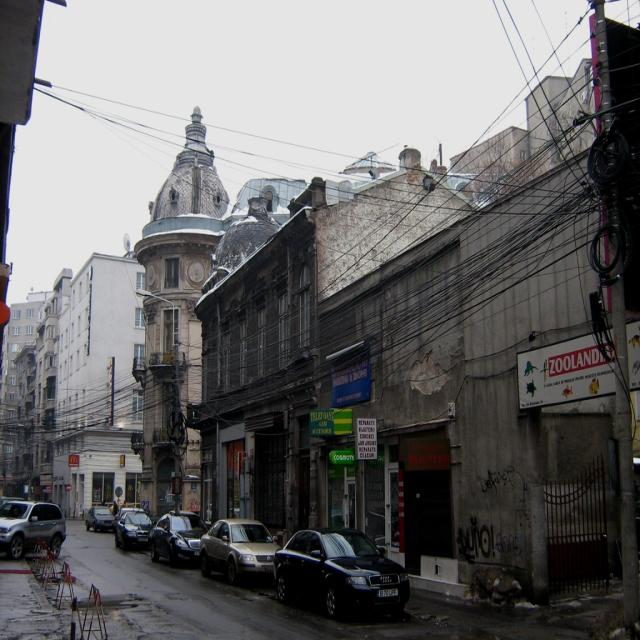car: (266, 527, 406, 623)
